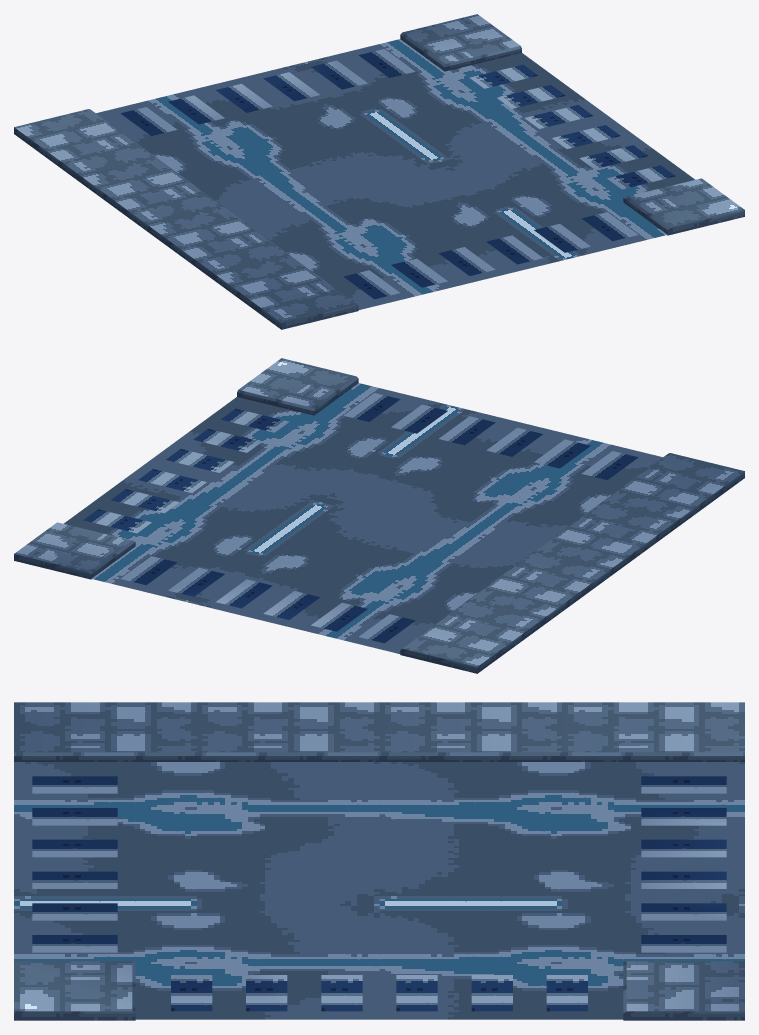
File: cystreet.tee.glb
The picture shows the model from 3 angles, top to bottom: view 1: azimuth 30°, elevation 25°; view 2: azimuth 150°, elevation 25°; view 3: azimuth 270°, elevation 25°; orthographic projection. The views are drawn at different scales.
Visible parts, largest first — view 1: kit_shell_road, kit_walks, kit_card_paint; view 2: kit_shell_road, kit_walks, kit_card_paint; view 3: kit_shell_road, kit_walks, kit_card_paint.
Boxes of the visible parts, x1,y1,x2,y2 form: kit_shell_road: [96, 39, 694, 309]; kit_walks: [14, 14, 744, 329]; kit_card_paint: [120, 49, 675, 299]; kit_shell_road: [64, 383, 662, 653]; kit_walks: [14, 358, 744, 673]; kit_card_paint: [83, 393, 638, 643]; kit_shell_road: [14, 762, 744, 1019]; kit_walks: [14, 702, 744, 1020]; kit_card_paint: [32, 776, 726, 1011].
Bounding box in the file's own units: 12 × 0.17 × 12.
4 materials, 4 textured.
